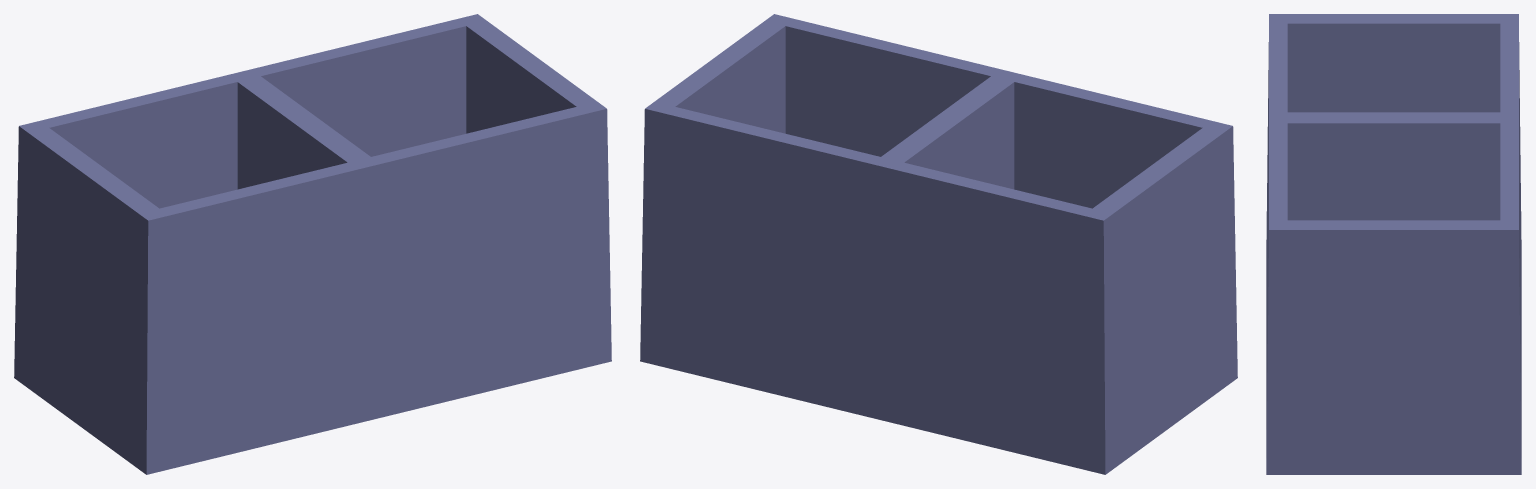
Rendered from Office2_stand.fbx.
3 renders of one model, left to right at view 1: azimuth 30°, elevation 25°; view 2: azimuth 150°, elevation 25°; view 3: azimuth 270°, elevation 25°, orthographic. The views are drawn at different scales.
Parts seen in each view (by area): view 1: Office2_stand; view 2: Office2_stand; view 3: Office2_stand.
Part boxes in pixels (x1,y1,x2,y2): Office2_stand: (14,14,611,474); Office2_stand: (640,14,1237,474); Office2_stand: (1266,14,1521,474).
Size of the model in its own units: 33.36 by 17.29 by 16.44.
